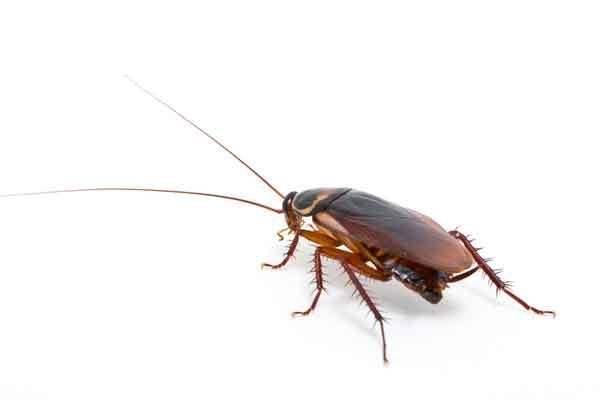cockroach: (278, 184, 484, 308)
